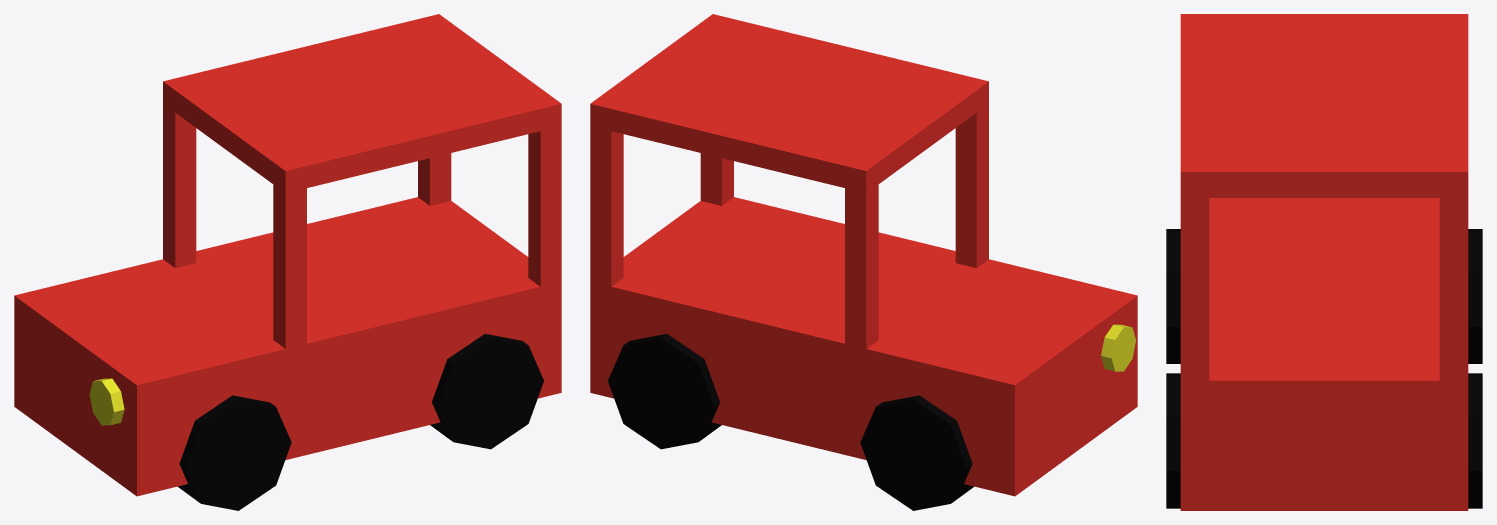
The model's file is car2.gltf.
The picture shows the model from 3 angles, left to right: view 1: azimuth 30°, elevation 25°; view 2: azimuth 150°, elevation 25°; view 3: azimuth 270°, elevation 25°; orthographic projection. The views are drawn at different scales.
Visible parts, largest first — view 1: Cube, Cube.005, Cylinder.001, Cylinder, Cube.001, Cube.003, Cube.002, Cube.004, Cylinder.002; view 2: Cube, Cube.005, Cylinder.001, Cylinder, Cube.002, Cube.004, Cube.001, Cube.003, Cylinder.002; view 3: Cube, Cube.005, Cube.003, Cube.004, Cylinder, Cylinder.001.
Boxes of the visible parts, x1,y1,x2,y2 form: Cube: [14, 197, 561, 496]; Cube.005: [163, 14, 561, 193]; Cylinder.001: [177, 395, 291, 510]; Cylinder: [430, 334, 543, 449]; Cube.001: [273, 184, 306, 348]; Cube.003: [528, 126, 561, 286]; Cube.002: [163, 104, 196, 267]; Cube.004: [418, 153, 451, 205]; Cylinder.002: [89, 378, 124, 425]; Cube: [590, 197, 1137, 496]; Cube.005: [590, 14, 988, 193]; Cylinder.001: [860, 395, 974, 510]; Cylinder: [608, 334, 721, 449]; Cube.002: [845, 184, 878, 348]; Cube.004: [590, 126, 623, 286]; Cube.001: [955, 104, 988, 267]; Cube.003: [700, 153, 733, 205]; Cylinder.002: [1101, 324, 1135, 371]; Cube: [1180, 198, 1468, 510]; Cube.005: [1180, 14, 1468, 197]; Cube.003: [1180, 198, 1209, 380]; Cube.004: [1439, 198, 1468, 380]; Cylinder: [1166, 373, 1482, 508]; Cylinder.001: [1166, 229, 1482, 363].
Bounding box in the file's own units: 4.1 × 2.9 × 2.2.
